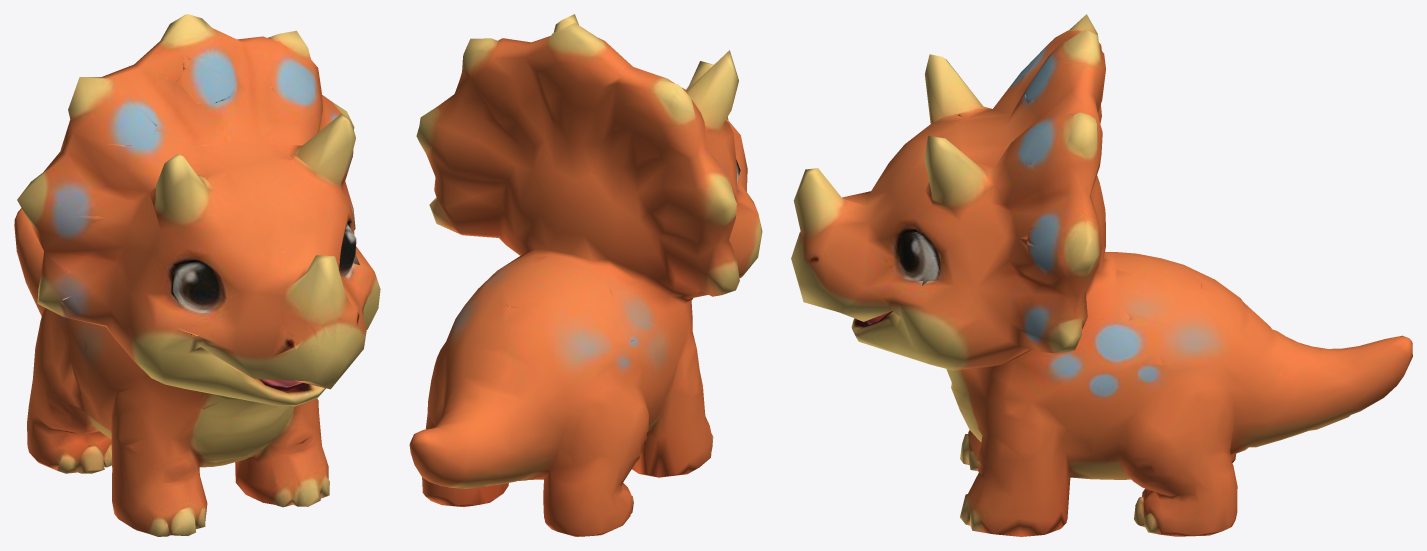
The model's file is dino-tri.glb.
The picture shows the model from 3 angles, left to right: view 1: azimuth 30°, elevation 25°; view 2: azimuth 150°, elevation 25°; view 3: azimuth 270°, elevation 25°; orthographic projection. The views are drawn at different scales.
Visible parts, largest first — view 1: tripo_node_1934da14-f65a-4850-b277-b20775b1fd20; view 2: tripo_node_1934da14-f65a-4850-b277-b20775b1fd20; view 3: tripo_node_1934da14-f65a-4850-b277-b20775b1fd20.
Part boxes in pixels (x1=…): tripo_node_1934da14-f65a-4850-b277-b20775b1fd20: x1=14, y1=14, x2=380, y2=536; tripo_node_1934da14-f65a-4850-b277-b20775b1fd20: x1=409, y1=14, x2=762, y2=536; tripo_node_1934da14-f65a-4850-b277-b20775b1fd20: x1=791, y1=14, x2=1412, y2=536.
Bounding box in the file's own units: 0.6075 × 0.8021 × 0.9818.
1 material, 1 textured.
